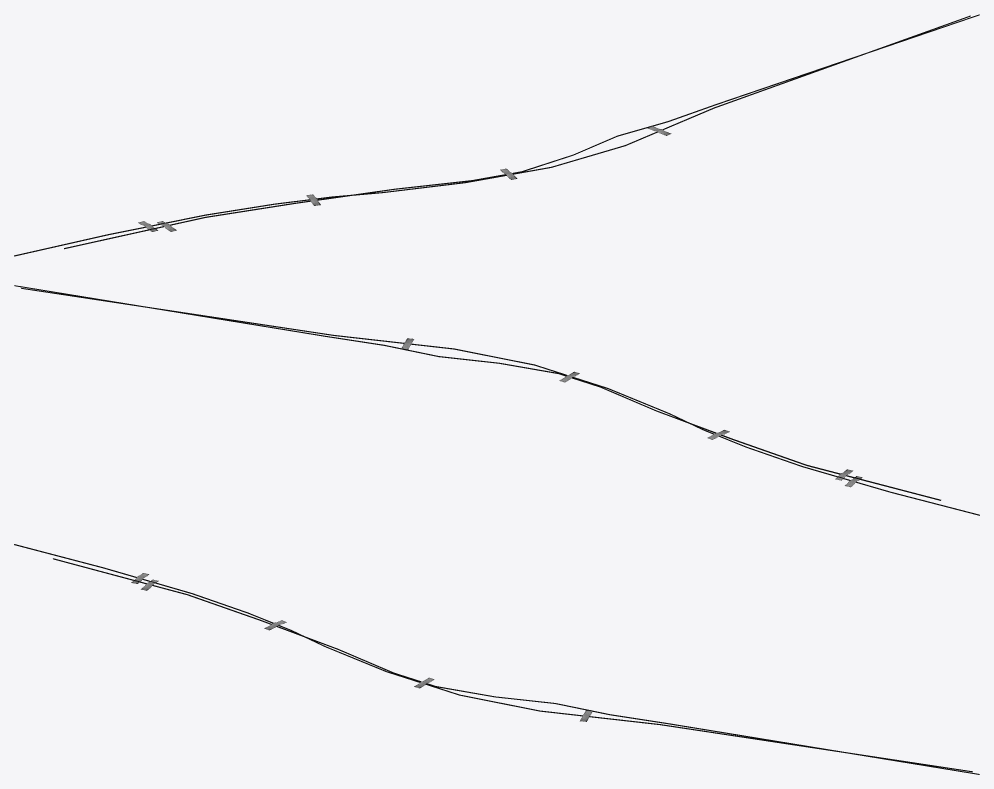
The model's file is Cable_Strip_B.fbx.
The picture shows the model from 3 angles, top to bottom: view 1: azimuth 30°, elevation 25°; view 2: azimuth 150°, elevation 25°; view 3: azimuth 330°, elevation 25°; orthographic projection.
Visible parts, largest first — view 1: Mic_Cable; view 2: Mic_Cable; view 3: Mic_Cable.
Part boxes in pixels (left/top/right/bottom): Mic_Cable: left=14, top=14, right=979, bottom=256; Mic_Cable: left=14, top=285, right=979, bottom=515; Mic_Cable: left=14, top=544, right=979, bottom=774.
Size of the model in its own units: 12.48 by 0.0178 by 1.19.
